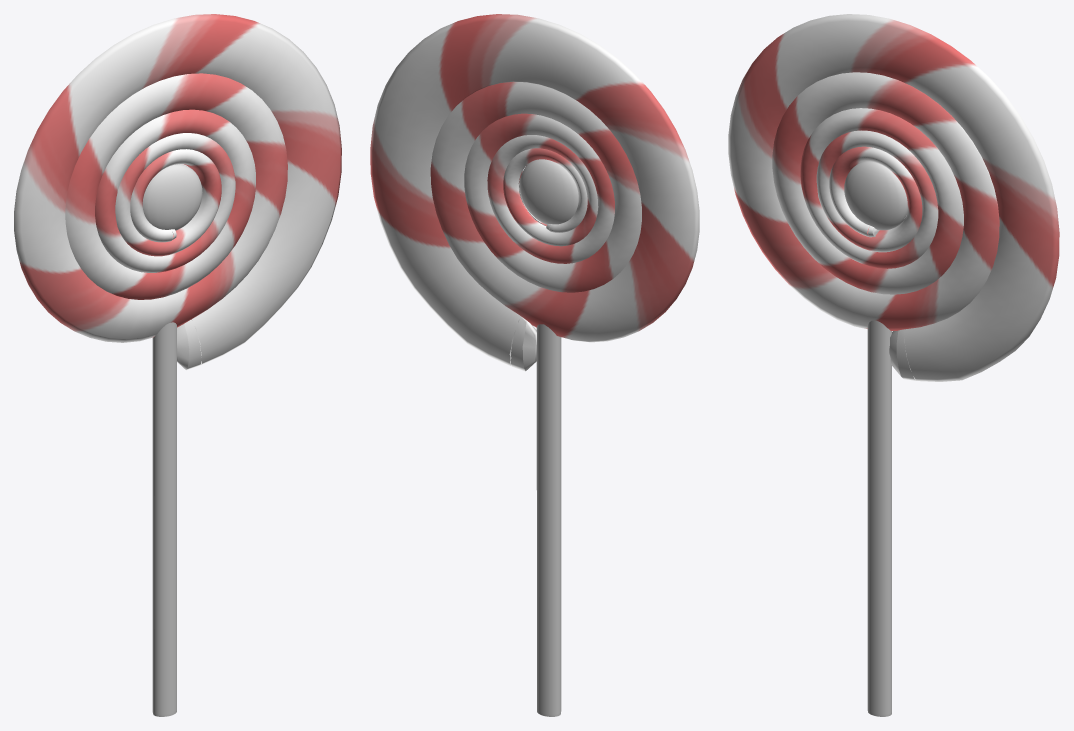
The model's file is Envr_Lollipop_1.fbx.
3 views of the same model, side by side, from view 1: azimuth 30°, elevation 25°; view 2: azimuth 150°, elevation 25°; view 3: azimuth 330°, elevation 25° (orthographic).
Visible parts, largest first — view 1: pHelix3, pCylinder1, pSphere1; view 2: pHelix3, pCylinder1, pSphere1; view 3: pHelix3, pCylinder1, pSphere1.
Boxes of the visible parts, left/top/right/bottom form: pHelix3: left=14, top=14, right=341, bottom=370; pCylinder1: left=152, top=322, right=176, bottom=716; pSphere1: left=142, top=164, right=202, bottom=230; pHelix3: left=370, top=14, right=699, bottom=371; pCylinder1: left=536, top=324, right=561, bottom=716; pSphere1: left=519, top=159, right=578, bottom=224; pHelix3: left=728, top=14, right=1059, bottom=381; pCylinder1: left=867, top=320, right=891, bottom=716; pSphere1: left=844, top=161, right=907, bottom=230.
Bounding box in the file's own units: 229 × 462 × 22.92.
